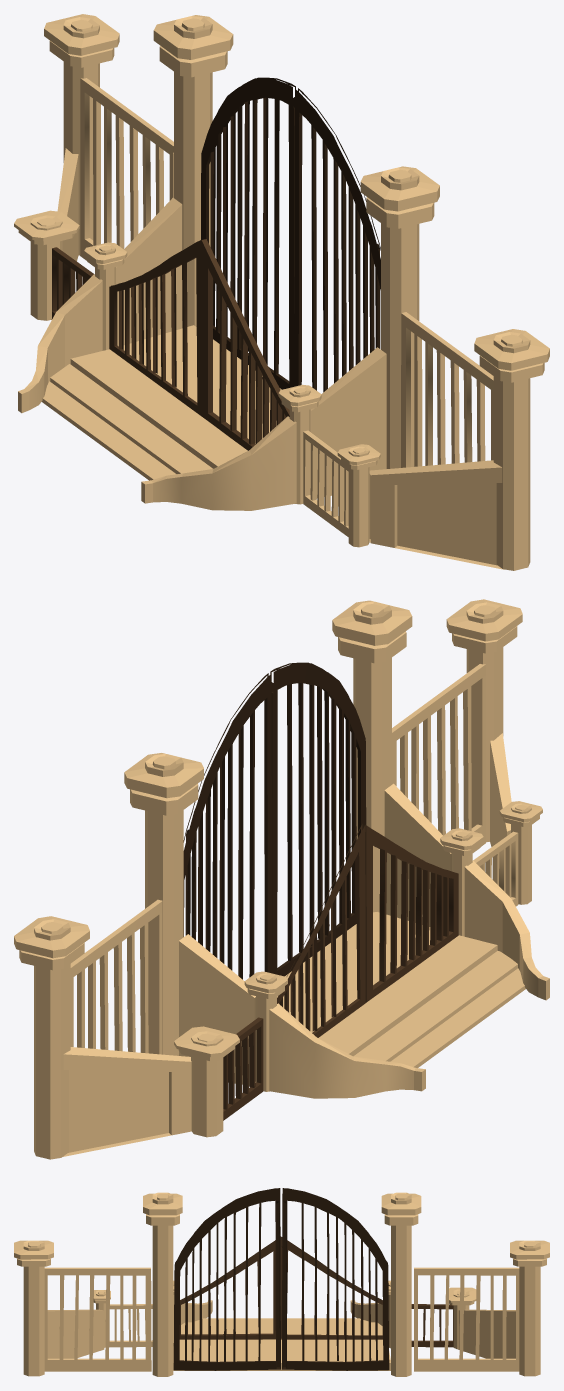
File: Golden Gates.FBX
3 renders of one model, top to bottom at view 1: azimuth 30°, elevation 25°; view 2: azimuth 150°, elevation 25°; view 3: azimuth 270°, elevation 25°, orthographic. The views are drawn at different scales.
Parts seen in each view (by area): view 1: GoldenGatePlatform, GoldenGateDoorL2, GoldenGateDoorR2, GoldenGateDoorR1, GoldenGateDoorL1; view 2: GoldenGatePlatform, GoldenGateDoorR2, GoldenGateDoorL2, GoldenGateDoorR1, GoldenGateDoorL1; view 3: GoldenGatePlatform, GoldenGateDoorR2, GoldenGateDoorL2, GoldenGateDoorR1, GoldenGateDoorL1.
Boxes of the visible parts, left/top/right/bottom form: GoldenGatePlatform: left=14, top=14, right=549, bottom=570; GoldenGateDoorL2: left=201, top=77, right=295, bottom=389; GoldenGateDoorR2: left=294, top=88, right=380, bottom=392; GoldenGateDoorR1: left=201, top=239, right=289, bottom=450; GoldenGateDoorL1: left=109, top=238, right=205, bottom=416; GoldenGatePlatform: left=14, top=599, right=549, bottom=1159; GoldenGateDoorR2: left=270, top=662, right=366, bottom=976; GoldenGateDoorL2: left=183, top=673, right=272, bottom=979; GoldenGateDoorR1: left=361, top=824, right=458, bottom=1002; GoldenGateDoorL1: left=277, top=824, right=366, bottom=1037; GoldenGatePlatform: left=14, top=1192, right=549, bottom=1376; GoldenGateDoorR2: left=173, top=1188, right=280, bottom=1370; GoldenGateDoorL2: left=282, top=1188, right=389, bottom=1370; GoldenGateDoorR1: left=179, top=1237, right=280, bottom=1339; GoldenGateDoorL1: left=280, top=1236, right=382, bottom=1339.
Bounding box in the file's own units: 8.76 × 10.98 × 28.94.
